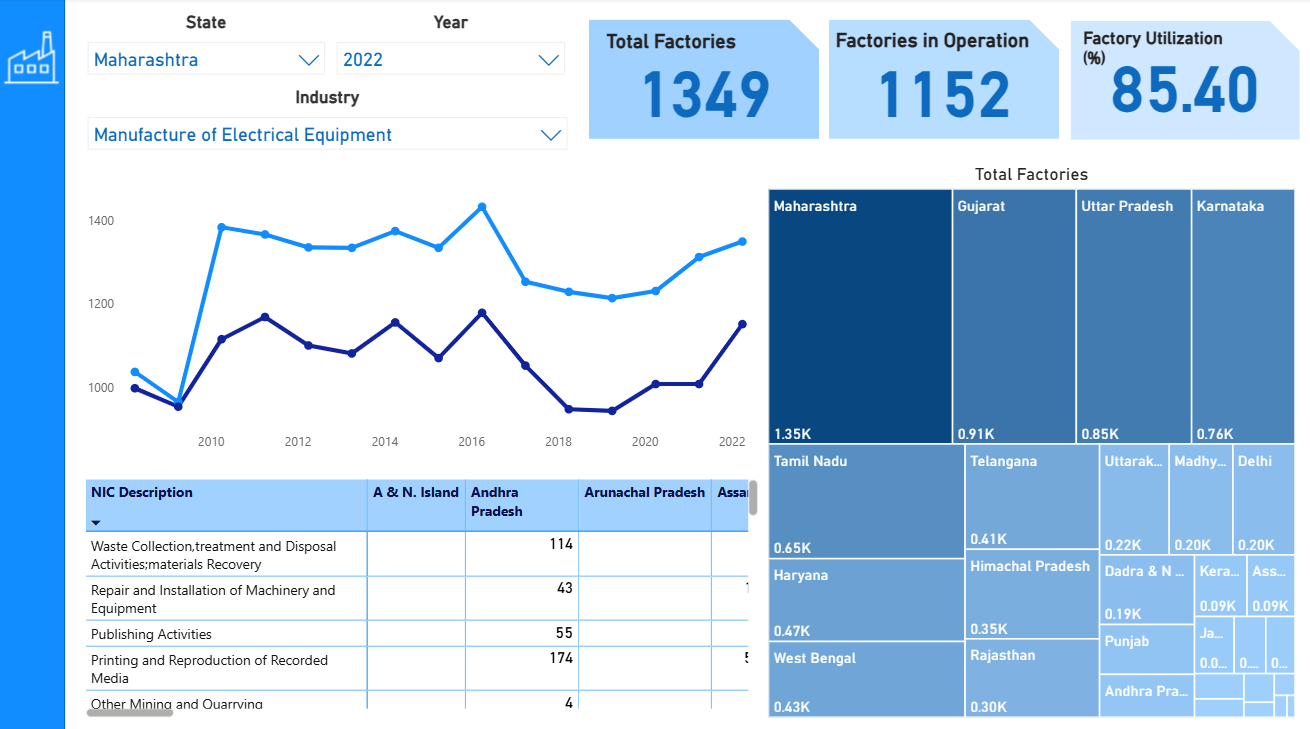

What the dashboard file says about the page in this screenshot:
{"tool":"powerbi","page":{"name":"Factory Overview","canvas":[1280,720],"ordinal":0},"visuals":[{"type":"pivotTable","fields":{"Rows":["NIC_code.NIC Description"],"Columns":["State_lookup.State"],"Values":["Factory_operation_measures.Total Factories"]},"box":[82.6,463.1,662.3,241.3],"z":0},{"type":"shape","box":[1043.6,22.7,222.7,115.5],"z":1000},{"type":"shape","box":[809.6,22.5,223.3,115.8],"z":2000},{"type":"slicer","title":"State","fields":{"Values":["State_lookup.State"]},"box":[80,14.3,250,73.3],"z":3000},{"type":"shape","box":[576.7,22.5,223.3,115.8],"z":4000},{"type":"shape","box":[0,0,68,720],"z":5000},{"type":"slicer","title":"Industry","fields":{"Values":["NIC_code.NIC Description"]},"box":[80,86.7,485,75],"z":6000},{"type":"card","title":"Total Factories","fields":{"Values":["Factory_operation_measures.Total Factories"]},"box":[586.7,28.5,202.8,113.9],"z":7000},{"type":"textbox","box":[588.4,26.5,173.3,58.3],"z":8000},{"type":"slicer","title":"Year","fields":{"Values":["Value_data.Year"]},"box":[322.2,14.6,241.3,68],"z":9000},{"type":"card","title":"Total Factories","fields":{"Values":["Factory_operation_measures.Factories in Operation"]},"box":[817.8,29,202.2,113.9],"z":10000},{"type":"card","title":"Total Factories","fields":{"Values":["Factory_operation_measures.Factory Utilization Rate (%)"]},"box":[1054.5,25.5,201.8,112.7],"z":11000},{"type":"textbox","box":[810.7,25.3,210,56.7],"z":12000},{"type":"textbox","box":[1051.4,20,172.9,70],"z":13000},{"type":"lineChart","fields":{"Y":["Factory_operation_measures.Total Factories","Factory_operation_measures.Factories in Operation"],"Category":["Value_data.Year"]},"box":[84.2,161.9,659,288.2],"z":14000},{"type":"treemap","title":"Total Factories ","fields":{"Values":["Factory_operation_measures.Total Factories"],"Group":["State_lookup.State"]},"box":[744.8,161.9,521.4,542.4],"z":16000},{"type":"actionButton","box":[1.7,23.3,68,70],"z":21000}]}

Visuals, with their boxes in screenshot pixels (x1, y1, x2, y2), scaled from the page's 1280x720 canvas onto the 1310x729 screenshot:
pivotTable - NIC_code.NIC Description x State_lookup.State: bbox(85, 469, 762, 713)
shape: bbox(1068, 23, 1296, 140)
shape: bbox(829, 23, 1057, 140)
"State" slicer: bbox(82, 14, 338, 89)
shape: bbox(590, 23, 819, 140)
shape: bbox(0, 0, 70, 728)
"Industry" slicer: bbox(82, 88, 578, 164)
"Total Factories" card: bbox(600, 29, 808, 144)
textbox: bbox(602, 27, 780, 86)
"Year" slicer: bbox(330, 15, 577, 84)
"Total Factories" card: bbox(837, 29, 1044, 145)
"Total Factories" card: bbox(1079, 26, 1286, 140)
textbox: bbox(830, 26, 1045, 83)
textbox: bbox(1076, 20, 1253, 91)
lineChart - Factory_operation_measures.Total Factories x Factory_operation_measures.Factories in Operation: bbox(86, 164, 761, 456)
"Total Factories " treemap: bbox(762, 164, 1296, 713)
actionButton: bbox(2, 24, 71, 94)
